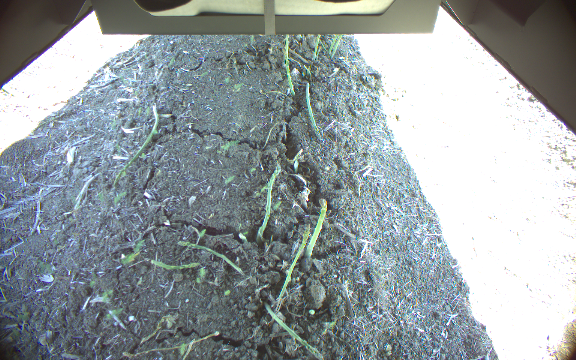aspa: (256, 167, 281, 240), (303, 198, 327, 259), (283, 35, 296, 94), (310, 35, 322, 59), (327, 35, 342, 54)
